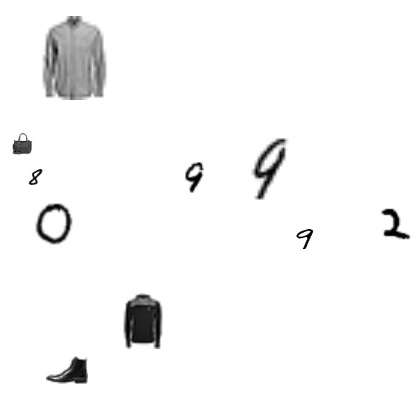0: (26, 194, 82, 250)
2: (372, 203, 414, 245)
8: (24, 166, 46, 188)
9: (225, 124, 309, 208), (172, 155, 214, 197), (291, 222, 319, 250)
Ankle_boot: (46, 349, 88, 391)
Bag: (11, 133, 33, 155)
Pullover: (114, 293, 170, 349)
Shirt: (31, 16, 115, 100)
